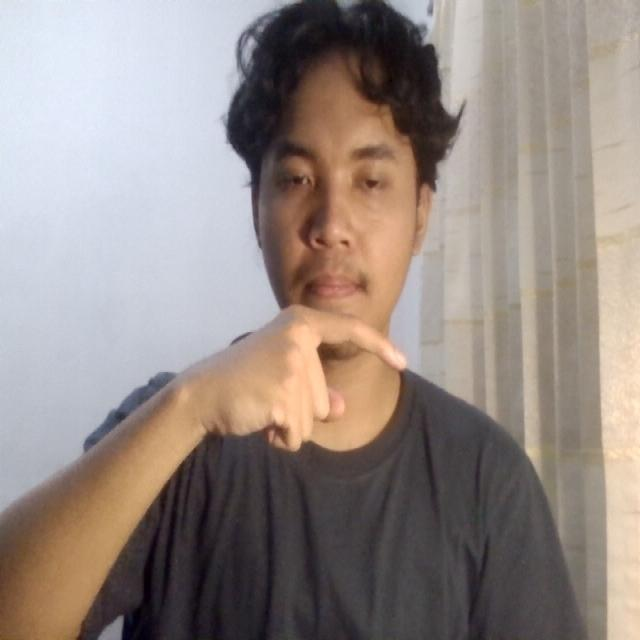N: (223, 280, 424, 472)
